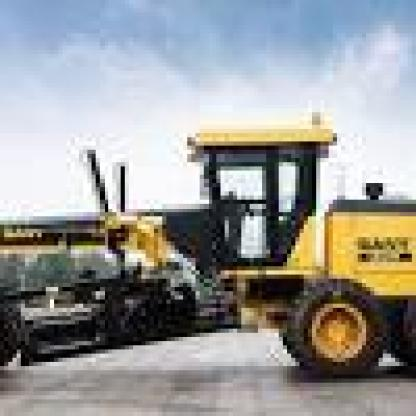bull_dozer/loader/grader: (0, 92, 412, 391)
